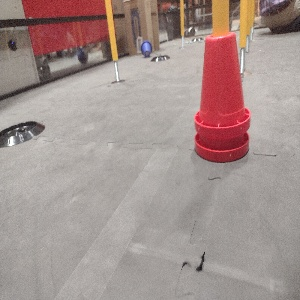Blue_1: (138, 40, 153, 57)
Red_2: (191, 28, 251, 162)
